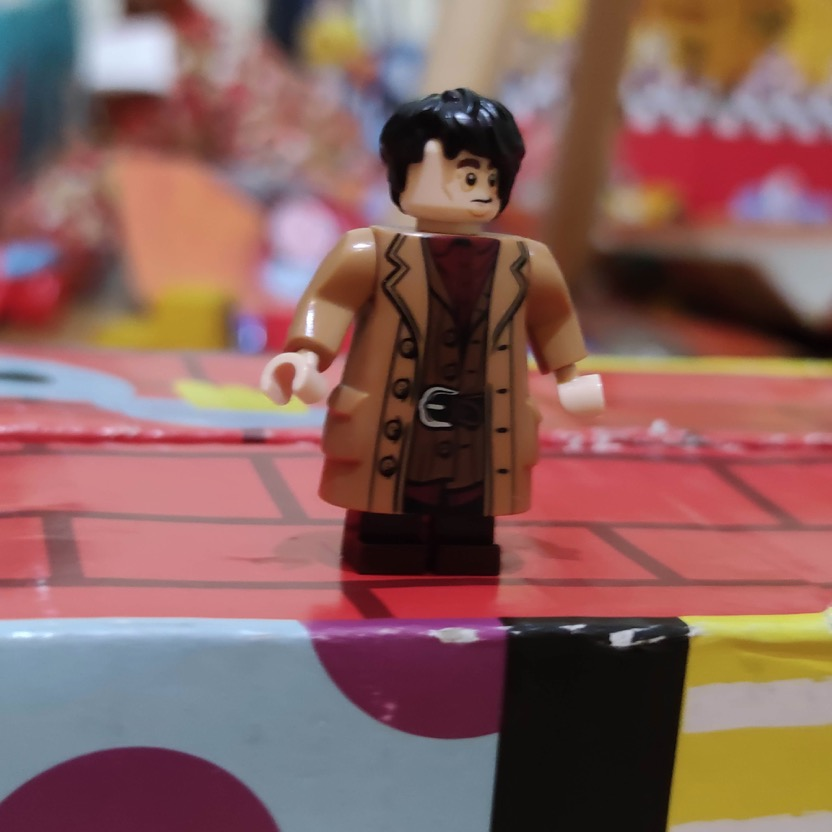lego: (260, 89, 605, 576)
